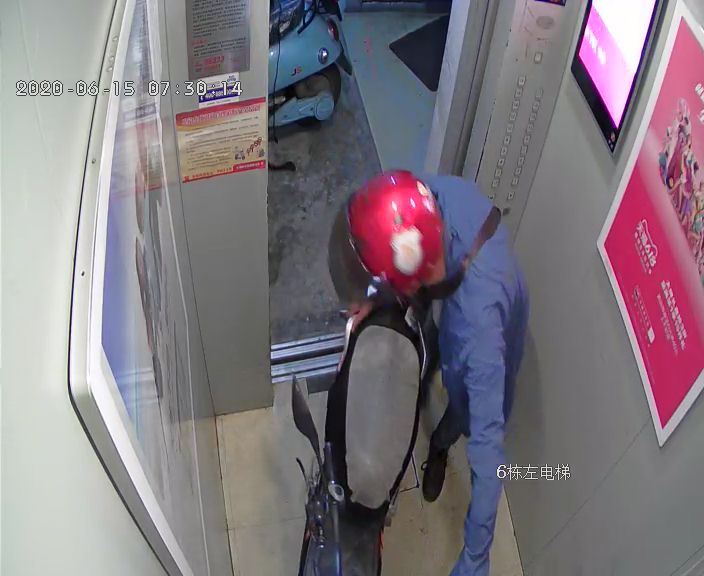Electric-bicycle: (290, 305, 432, 576), (269, 3, 347, 128)
